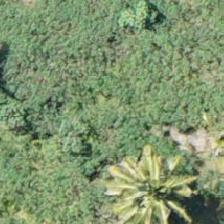coconut_tree: (86, 145, 176, 223)
